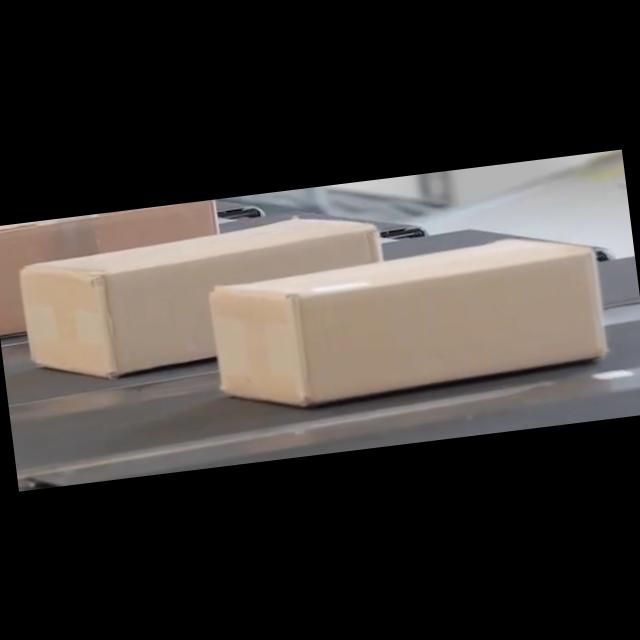box: (207, 235, 603, 414), (14, 208, 393, 386), (0, 198, 229, 336)
